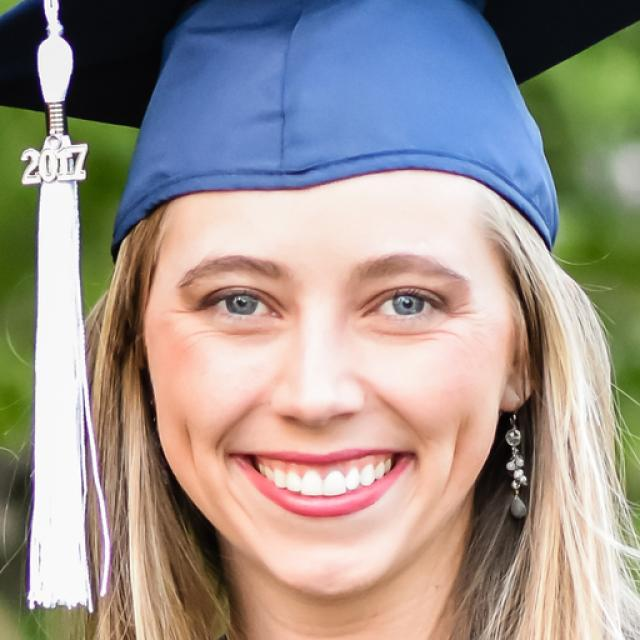happy: (144, 138, 510, 596)
